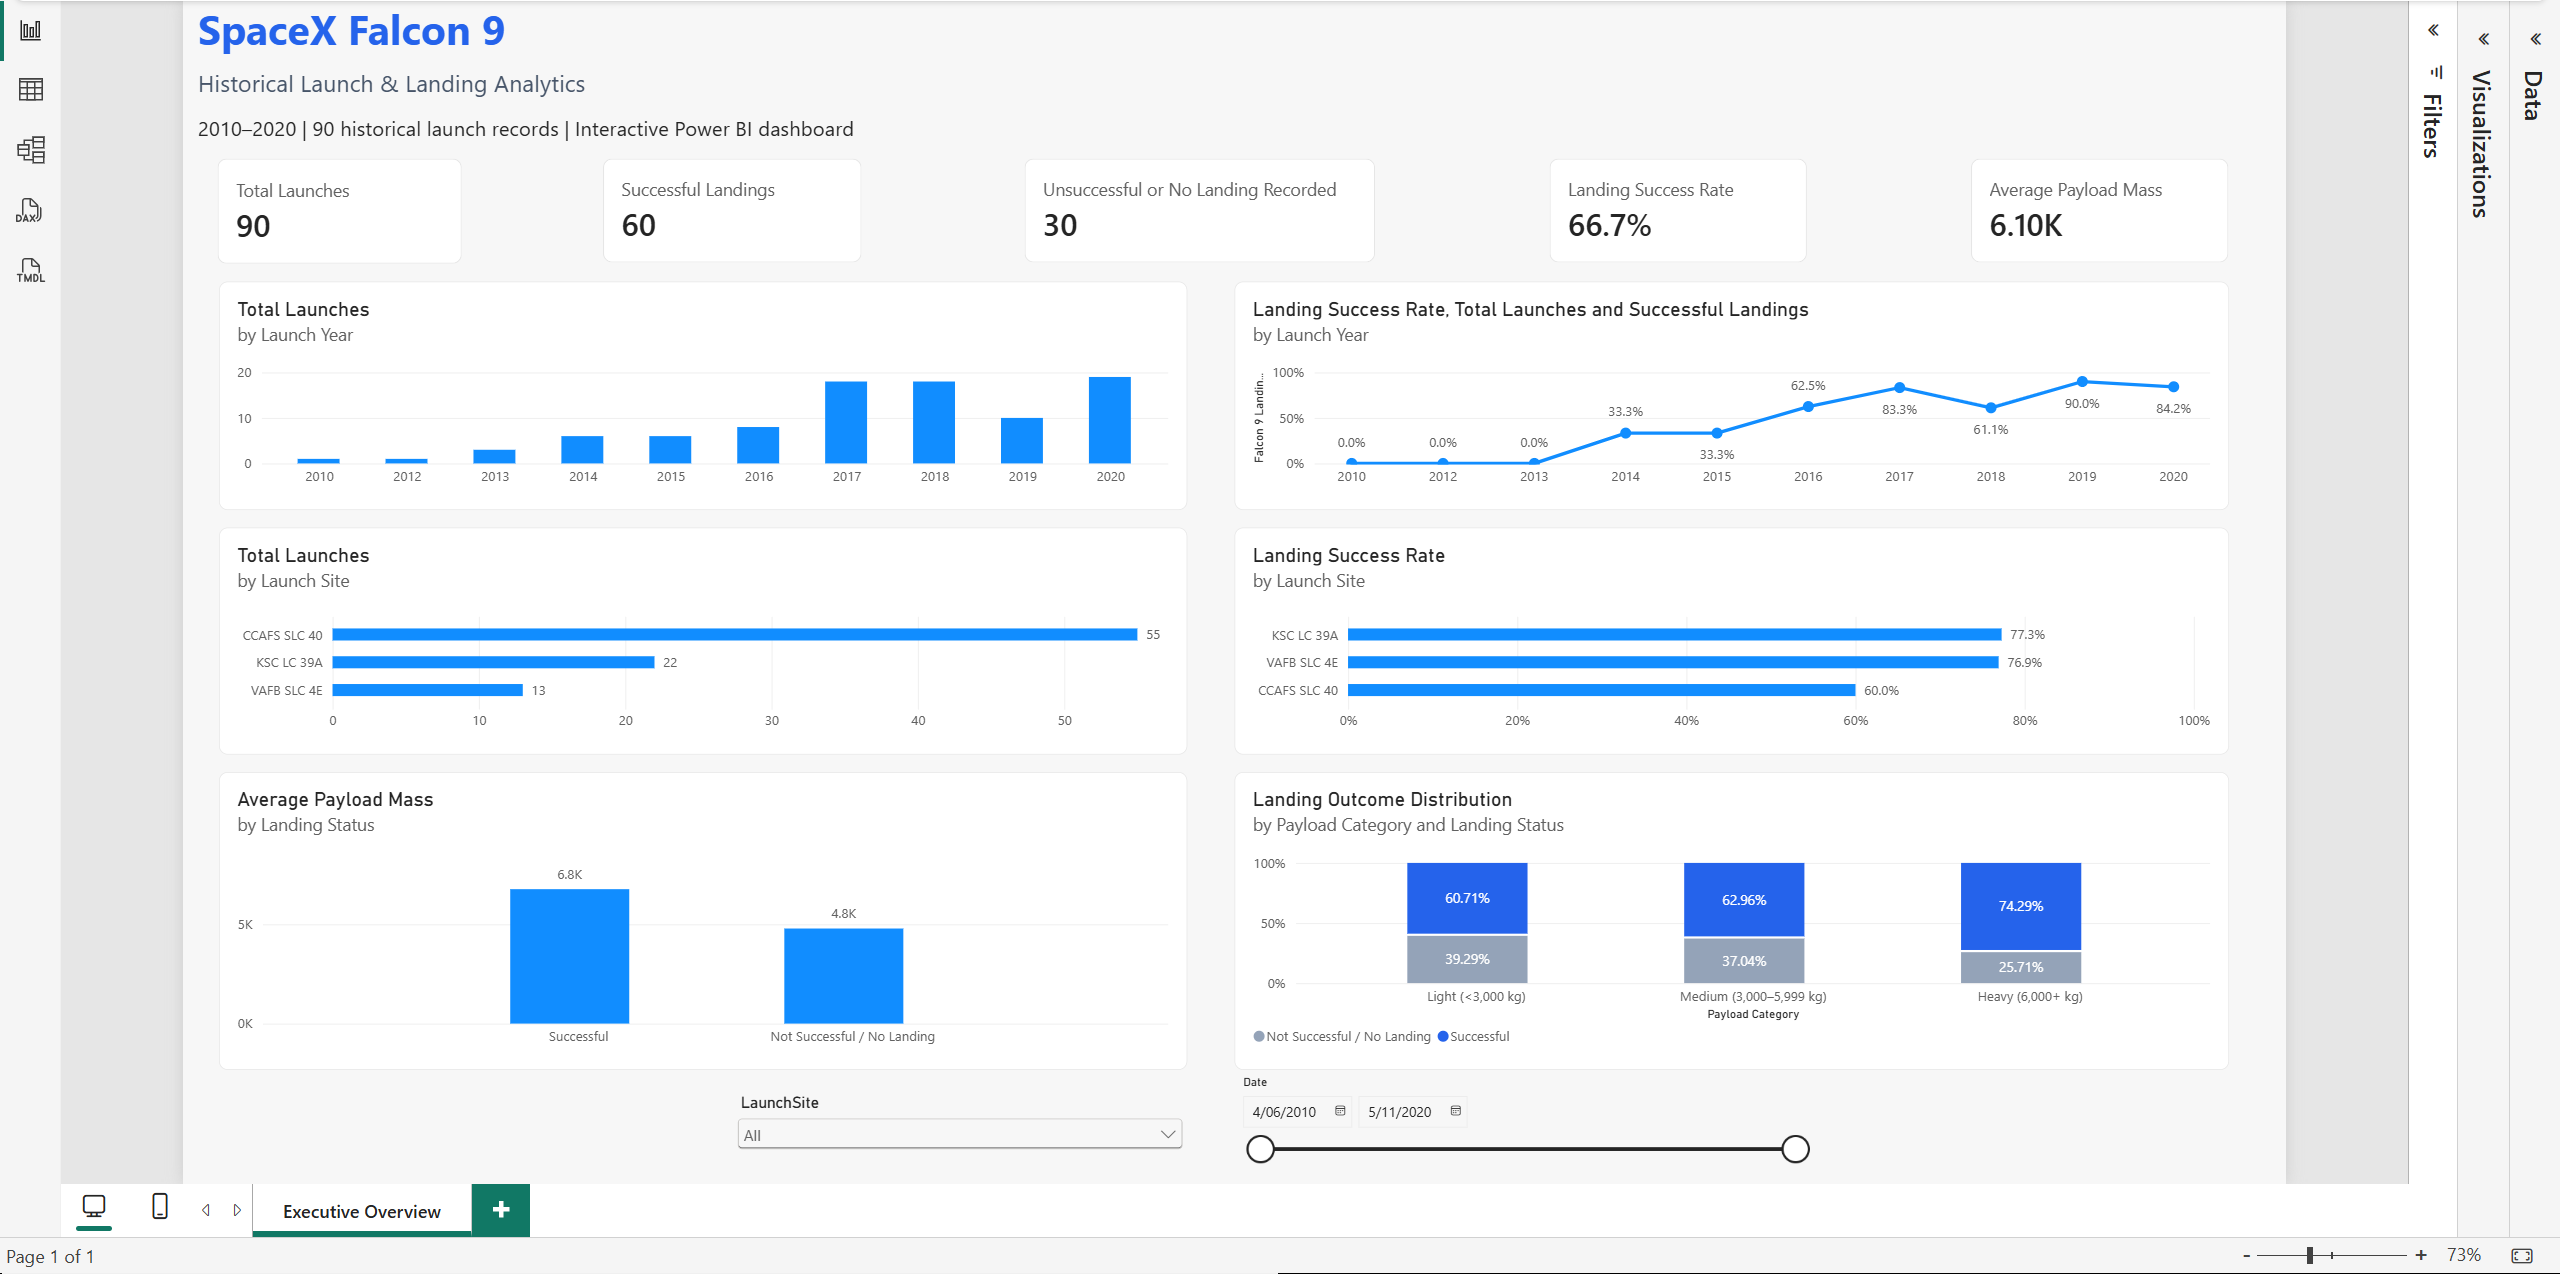

What the dashboard file says about the page in this screenshot:
{"tool":"powerbi","page":{"name":"Executive Overview","canvas":[1920,1080],"ordinal":0},"visuals":[{"type":"cardVisual","fields":{"Data":["Falcon9_Launches.Total Launches"]},"box":[32,144,224,96],"z":0},{"type":"cardVisual","fields":{"Data":["Falcon9_Launches.Successful Landings"]},"box":[384,144,236,95],"z":1000},{"type":"cardVisual","fields":{"Data":["Falcon9_Launches.Unsuccessful or No Landing Recorded"]},"box":[768,144,320,95],"z":2000},{"type":"cardVisual","fields":{"Data":["Falcon9_Launches.Landing Success Rate"]},"box":[1248,144,235,95],"z":3000},{"type":"clusteredBarChart","title":"Landing Success Rate ","fields":{"Category":["Falcon9_Launches.LaunchSite"],"Y":["Falcon9_Launches.Landing Success Rate"]},"box":[959.6,480.5,908.1,207.1],"z":4000},{"type":"slicer","fields":{"Values":["Falcon9_Launches.LaunchSite"]},"box":[500.8,997.5,416,64],"z":5000},{"type":"clusteredBarChart","title":"Total Launches","fields":{"Category":["Falcon9_Launches.LaunchSite"],"Y":["Falcon9_Launches.Total Launches"]},"box":[32.5,480.5,883.8,207.1],"z":6000},{"type":"lineChart","fields":{"Category":["Falcon9_Launches.Launch Year"],"Y":["Falcon9_Launches.Landing Success Rate"]},"box":[959.6,255.8,908.1,208.4],"z":7000},{"type":"clusteredColumnChart","fields":{"Category":["Falcon9_Launches.Launch Year"],"Y":["Falcon9_Launches.Total Launches"]},"box":[32.5,255.8,883.8,208.4],"z":8000},{"type":"slicer","fields":{"Values":["Falcon9_Launches.Date"]},"box":[959.6,979.9,528,100],"z":9000},{"type":"cardVisual","fields":{"Data":["Falcon9_Launches.Average Payload Mass"]},"box":[1632,144,235,95],"z":10000},{"type":"clusteredColumnChart","title":"Average Payload Mass","fields":{"Category":["Falcon9_Launches.Landing Status"],"Y":["Falcon9_Launches.Average Payload Mass"]},"box":[32.5,703.8,883.8,272],"z":11000},{"type":"hundredPercentStackedColumnChart","title":"Landing Outcome Distribution","fields":{"Category":["Falcon9_Launches.Payload Category"],"Series":["Falcon9_Launches.Landing Status"],"Y":["Falcon9_Launches.Total Launches"]},"box":[959.6,703.8,908.1,272],"z":12000},{"type":"textbox","box":[13.3,0,305,60],"z":12001},{"type":"textbox","box":[13.3,41.7,435,55],"z":12002},{"type":"textbox","box":[13.3,85,740,46.7],"z":12003}]}

Visuals, with their boxes on the page's 1920x1080 design canvas (x1, y1, x2, y2). These are canvas units, not pixel positions in the 2560x1274 screenshot, which may show the page scaled, cropped or inside an application window:
cardVisual - Falcon9_Launches.Total Launches: BBox(32, 144, 256, 240)
cardVisual - Falcon9_Launches.Successful Landings: BBox(384, 144, 620, 239)
cardVisual - Falcon9_Launches.Unsuccessful or No Landing Recorded: BBox(768, 144, 1088, 239)
cardVisual - Falcon9_Launches.Landing Success Rate: BBox(1248, 144, 1483, 239)
"Landing Success Rate " clusteredBarChart: BBox(960, 480, 1868, 688)
slicer - Falcon9_Launches.LaunchSite: BBox(501, 998, 917, 1062)
"Total Launches" clusteredBarChart: BBox(32, 480, 916, 688)
lineChart - Falcon9_Launches.Launch Year x Falcon9_Launches.Landing Success Rate: BBox(960, 256, 1868, 464)
clusteredColumnChart - Falcon9_Launches.Launch Year x Falcon9_Launches.Total Launches: BBox(32, 256, 916, 464)
slicer - Falcon9_Launches.Date: BBox(960, 980, 1488, 1080)
cardVisual - Falcon9_Launches.Average Payload Mass: BBox(1632, 144, 1867, 239)
"Average Payload Mass" clusteredColumnChart: BBox(32, 704, 916, 976)
"Landing Outcome Distribution" hundredPercentStackedColumnChart: BBox(960, 704, 1868, 976)
textbox: BBox(13, 0, 318, 60)
textbox: BBox(13, 42, 448, 97)
textbox: BBox(13, 85, 753, 132)
